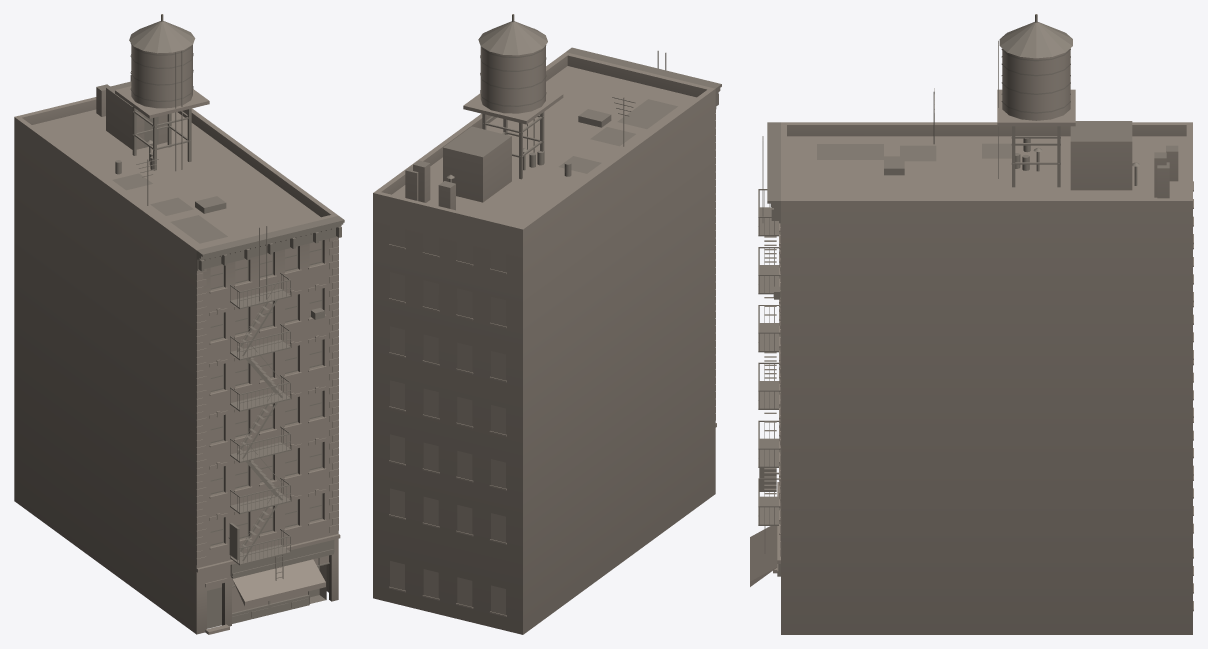
Rendered from tenement_j.glb.
3 views of the same model, side by side, from view 1: azimuth 30°, elevation 25°; view 2: azimuth 150°, elevation 25°; view 3: azimuth 270°, elevation 25° (orthographic). The views are drawn at different scales.
Visible parts, largest first — view 1: tenement_j; view 2: tenement_j; view 3: tenement_j.
Boxes of the visible parts, x1,y1,x2,y2 form: tenement_j: (14,14,344,634); tenement_j: (373,14,721,634); tenement_j: (750,14,1193,634).
Bounding box in the file's own units: 9 × 31.35 × 21.55.
